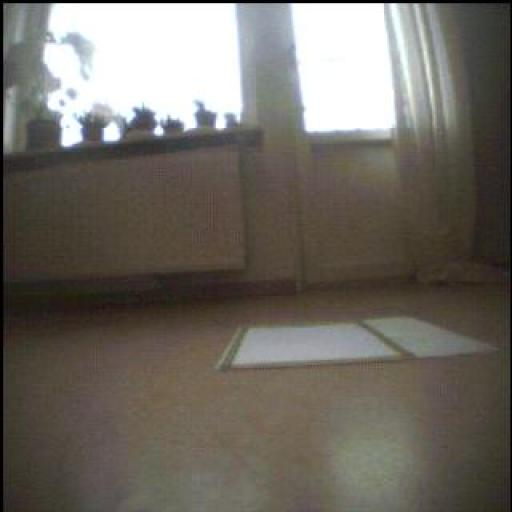Pad: (217, 299, 472, 379)
